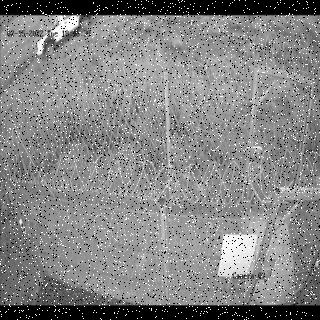car: (34, 14, 91, 58)
